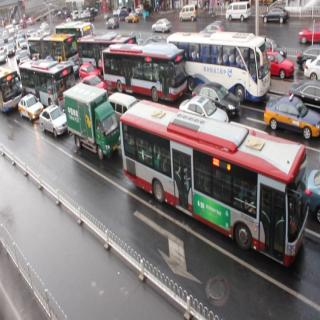BigCar: (117, 96, 313, 273), (166, 26, 271, 106), (104, 44, 186, 104), (63, 78, 122, 160), (15, 54, 71, 115)
Car: (263, 90, 320, 150), (190, 78, 243, 119), (18, 90, 44, 129), (41, 104, 67, 138), (262, 4, 292, 27), (224, 1, 253, 22), (177, 0, 200, 24), (150, 17, 172, 35)
